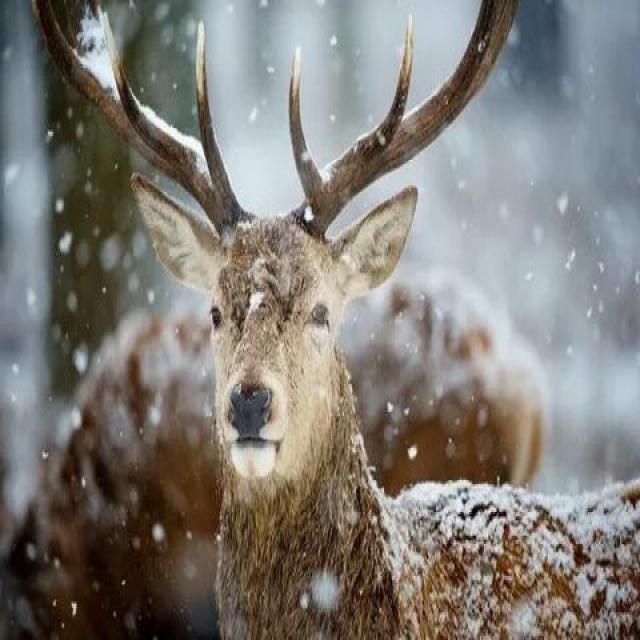deer: (118, 10, 542, 640)
